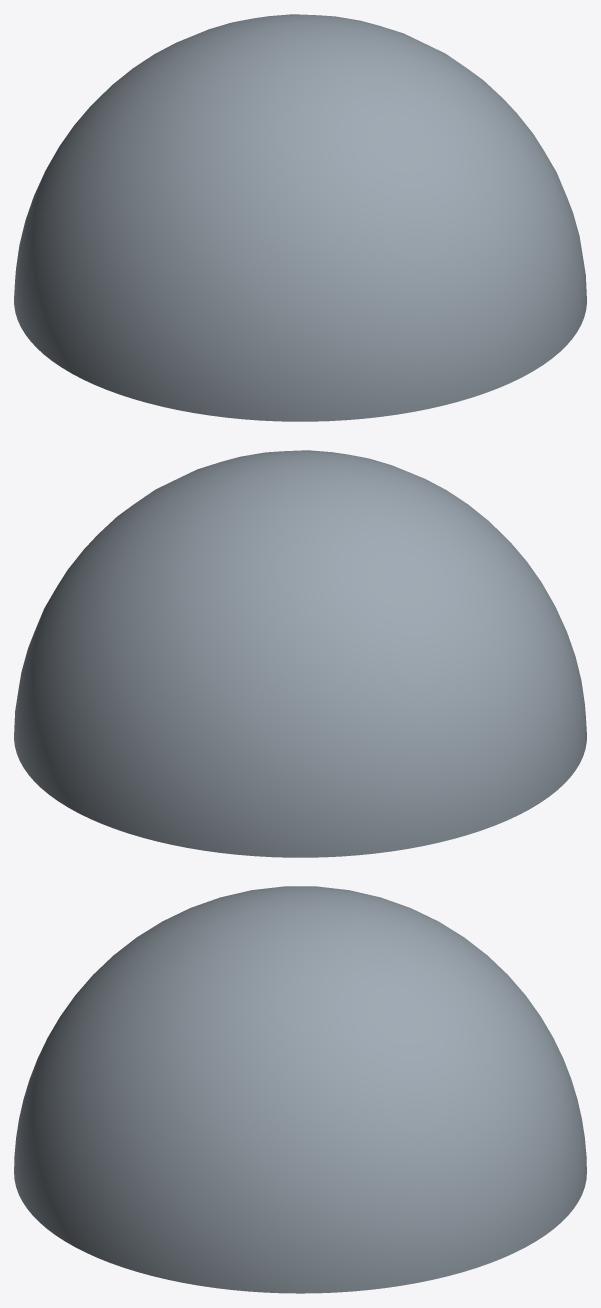
File: 1 - hemisphere.dae
3 views of the same model, one above another, from view 1: azimuth 30°, elevation 25°; view 2: azimuth 150°, elevation 25°; view 3: azimuth 270°, elevation 25° (orthographic).
Bounding box in the file's own units: 0.0254 × 0.0127 × 0.0254.
